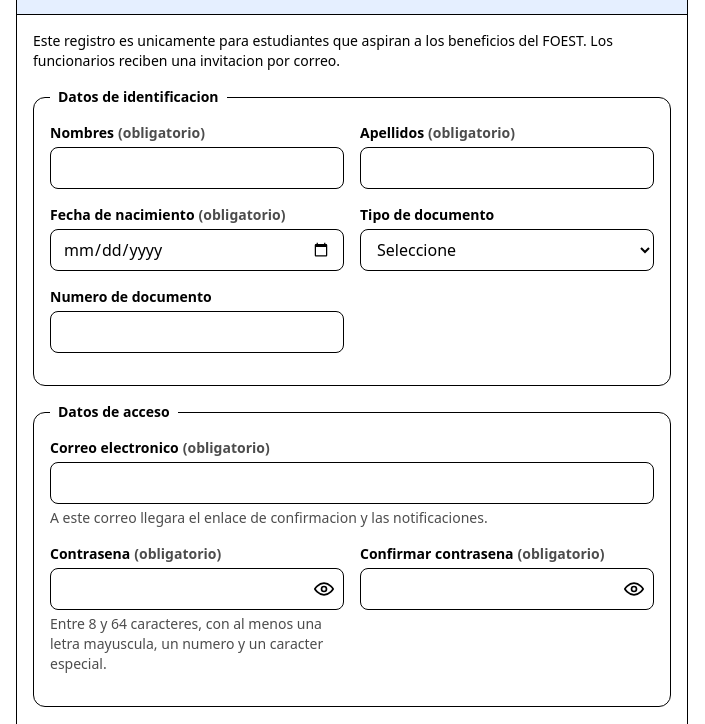
Scenario: RegistroPage › con consentimiento aceptado envia la version vigente y muestra la confirmacion
In the field labelled "Nombres(obligatorio)": {"x": 197, "y": 168} top-left (50, 147), bottom-right (344, 189), type "Ana"
In the field labelled "Apellidos(obligatorio)": {"x": 507, "y": 168} top-left (360, 147), bottom-right (654, 189), type "Perez"
In the date field labelled "Fecha de nacimiento(obligatorio)": {"x": 197, "y": 250} top-left (50, 229), bottom-right (344, 271), type "2000-05-10"
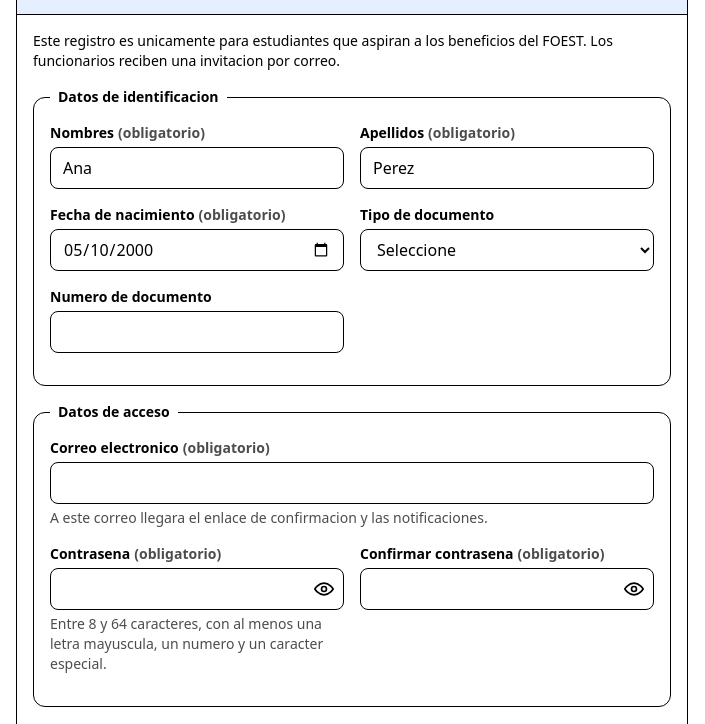
In the field labelled "Correo electronico(obligatorio)": {"x": 352, "y": 483} top-left (50, 462), bottom-right (654, 504), type "ana@foest.test"
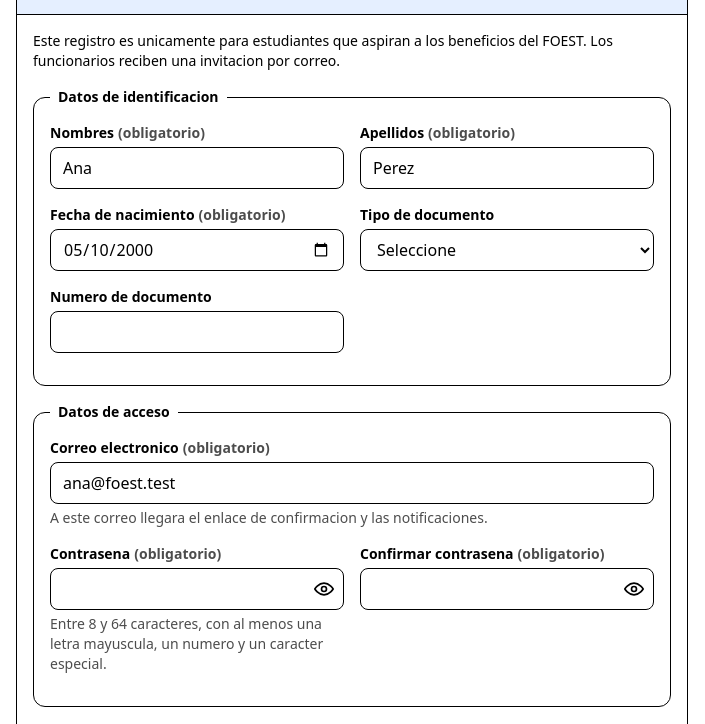
In the password field labelled "Contrasena(obligatorio)": {"x": 197, "y": 589} top-left (50, 568), bottom-right (344, 610), type "Clave.Segura1"
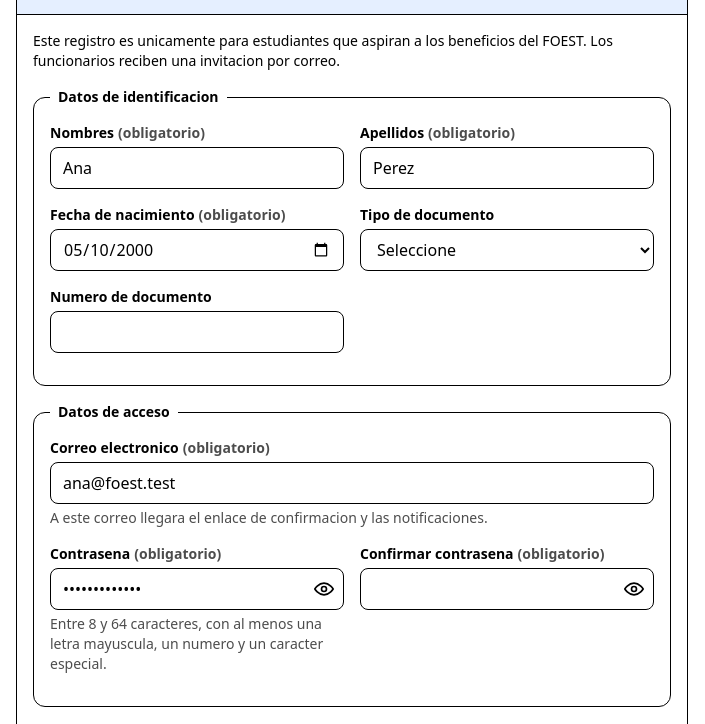
In the password field labelled "Confirmar contrasena(obligatorio)": {"x": 507, "y": 589} top-left (360, 568), bottom-right (654, 610), type "Clave.Segura1"
(page scrolled)
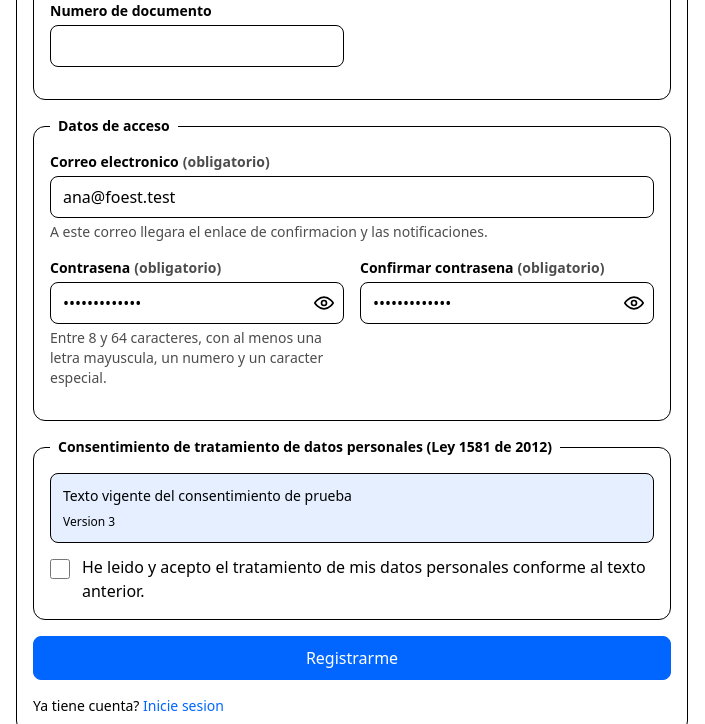
Click the checkbox: {"x": 60, "y": 569} top-left (50, 559), bottom-right (70, 579)
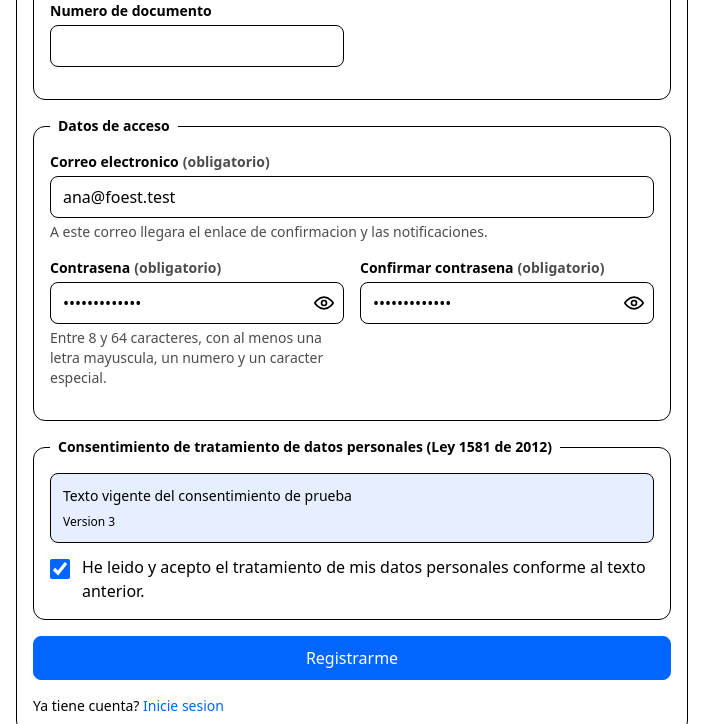
Click the button "Registrarme": {"x": 352, "y": 658} top-left (33, 636), bottom-right (671, 680)
(page scrolled)
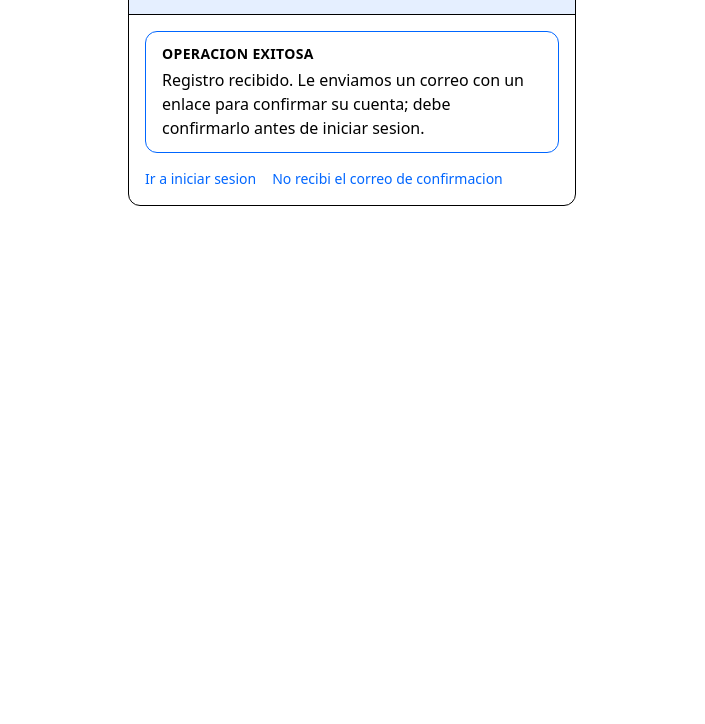
Check: the text "Registro recibido" is shown, box top-left (162, 69), bottom-right (524, 139)
